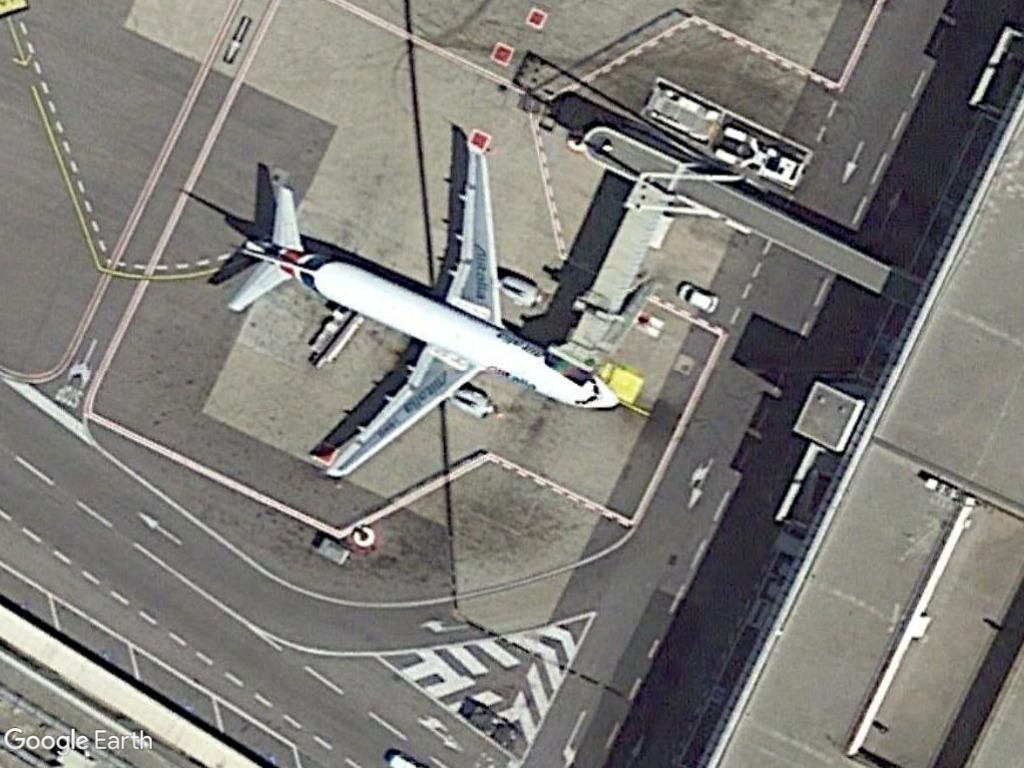airliner: (218, 121, 629, 487)
car: (676, 279, 720, 317)
stairtruck: (295, 298, 362, 371)
